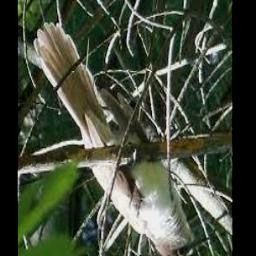Cuckoo: (34, 23, 211, 256)
